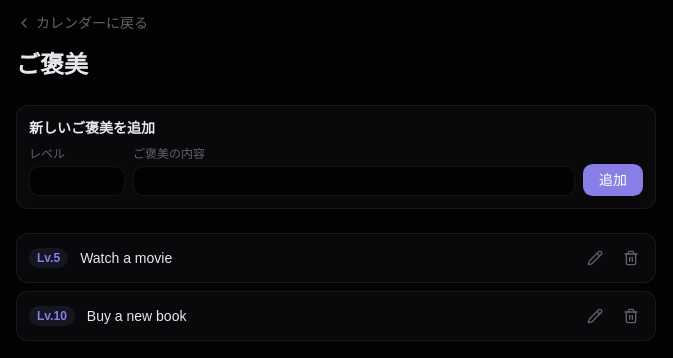
Scenario: RewardsPage › deletes a reward without confirmation
The image size is (673, 358).
Check: the text "Watch a movie" is shown, box [80,250,172,266]
Click the button named "削除" in the row of "Watch a movie" at (631, 258), box [619,246,643,270]
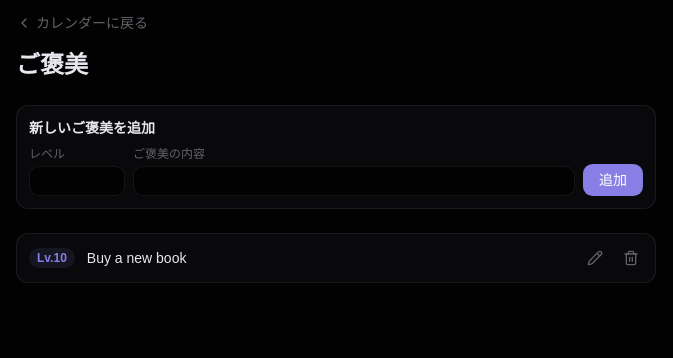
Check: the text "Watch a movie" is gone
